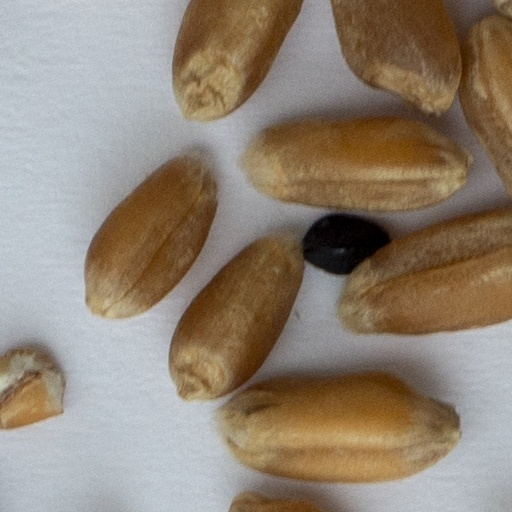Wheat-grain-damaged-poly: (0, 344, 76, 432)
